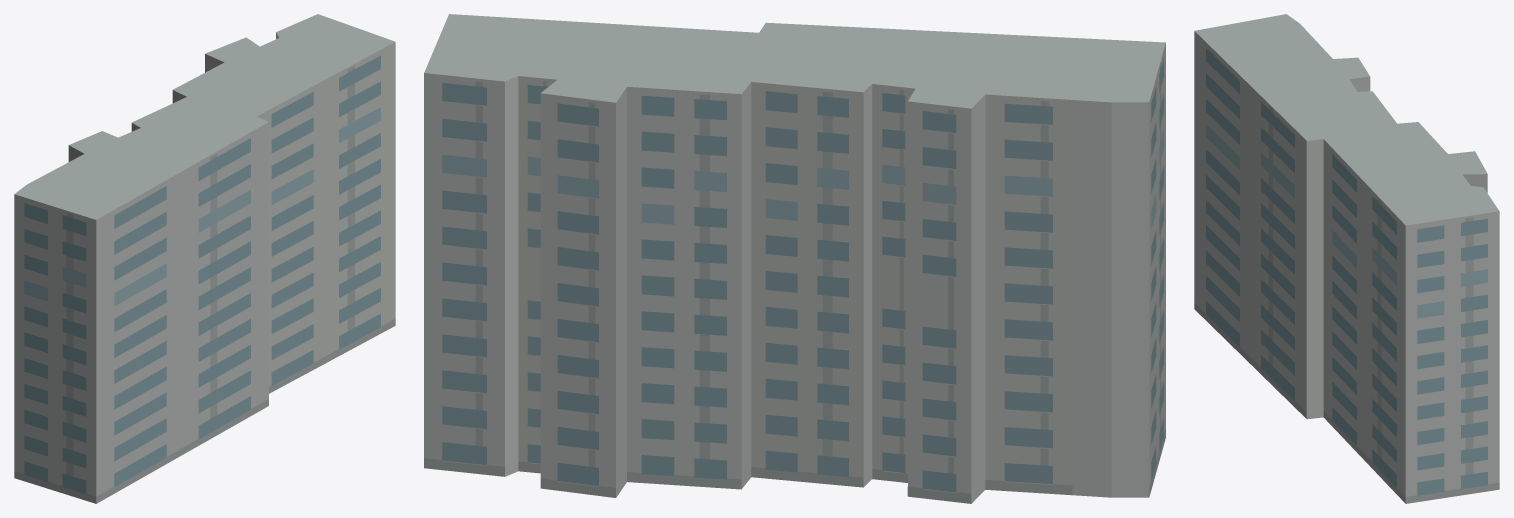
Rendered from residential-6915aecf-1bc0-47d2-9edb-5f0ec09b8b22.glb.
3 renders of one model, left to right at view 1: azimuth 30°, elevation 25°; view 2: azimuth 150°, elevation 25°; view 3: azimuth 270°, elevation 25°, orthographic. The views are drawn at different scales.
Visible parts, largest first — view 1: residential-6915aecf-1bc0-47d2-9edb-5f0ec09b8b22.tmp; view 2: residential-6915aecf-1bc0-47d2-9edb-5f0ec09b8b22.tmp; view 3: residential-6915aecf-1bc0-47d2-9edb-5f0ec09b8b22.tmp.
Boxes of the visible parts, bbox=[...] form: residential-6915aecf-1bc0-47d2-9edb-5f0ec09b8b22.tmp: bbox=[14, 14, 395, 503]; residential-6915aecf-1bc0-47d2-9edb-5f0ec09b8b22.tmp: bbox=[424, 14, 1165, 503]; residential-6915aecf-1bc0-47d2-9edb-5f0ec09b8b22.tmp: bbox=[1194, 14, 1499, 503].
Size of the model in its own units: 52.17 by 32 by 31.8.
